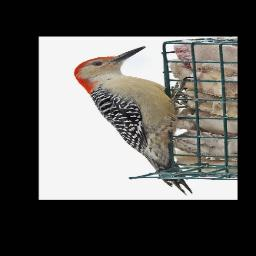Woodpecker: (74, 44, 195, 196)
